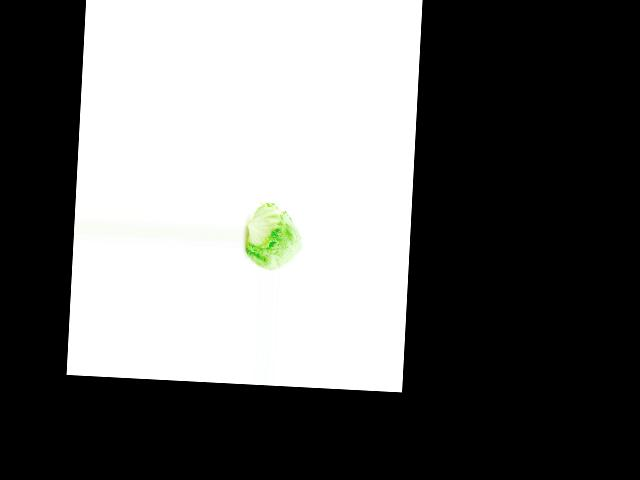lettuce: (244, 201, 305, 274)
